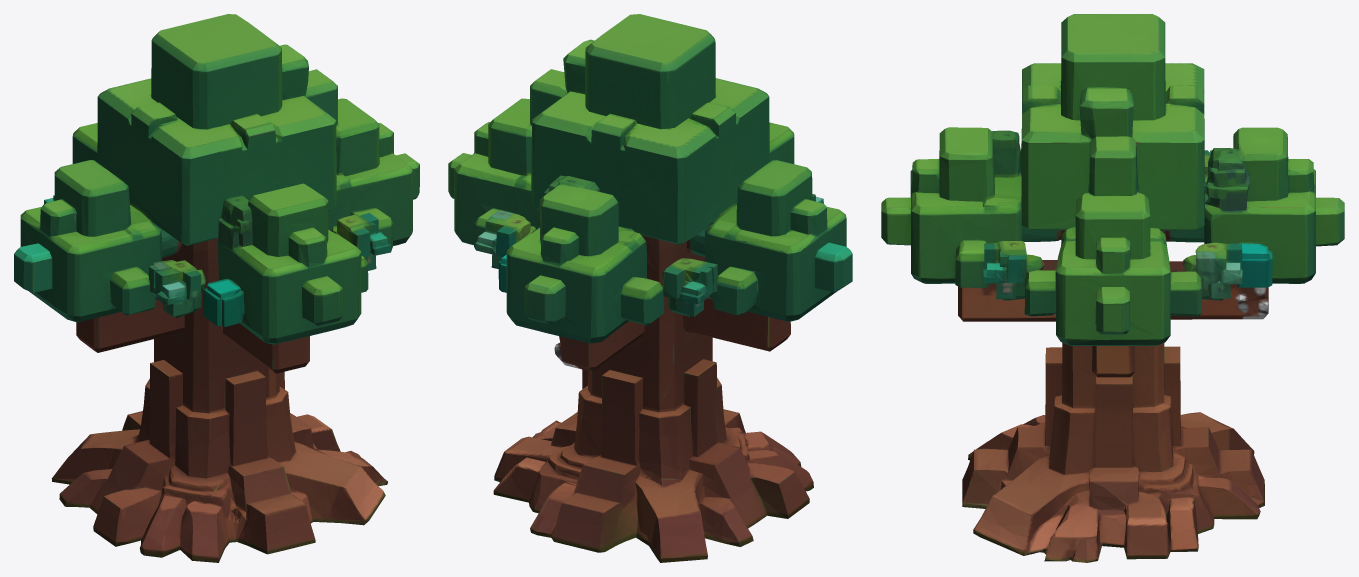
The model's file is canopy-tree.1.glb.
3 views of the same model, side by side, from view 1: azimuth 30°, elevation 25°; view 2: azimuth 150°, elevation 25°; view 3: azimuth 270°, elevation 25° (orthographic).
Visible parts, largest first — view 1: world; view 2: world; view 3: world.
Boxes of the visible parts, box(x1,y1,x2,y2) form: world: box(14, 14, 419, 562); world: box(448, 14, 852, 562); world: box(881, 14, 1344, 562).
Bounding box in the file's own units: 0.9054 × 0.996 × 0.906.
1 material, 1 textured.
